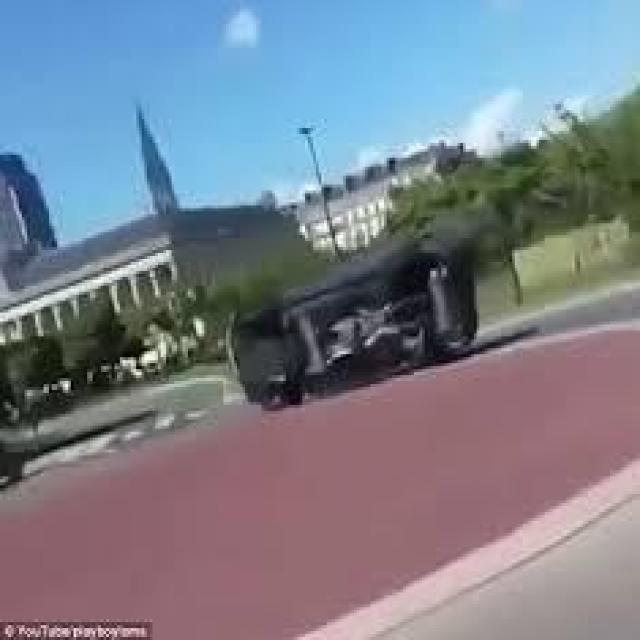accident: (212, 235, 485, 408)
